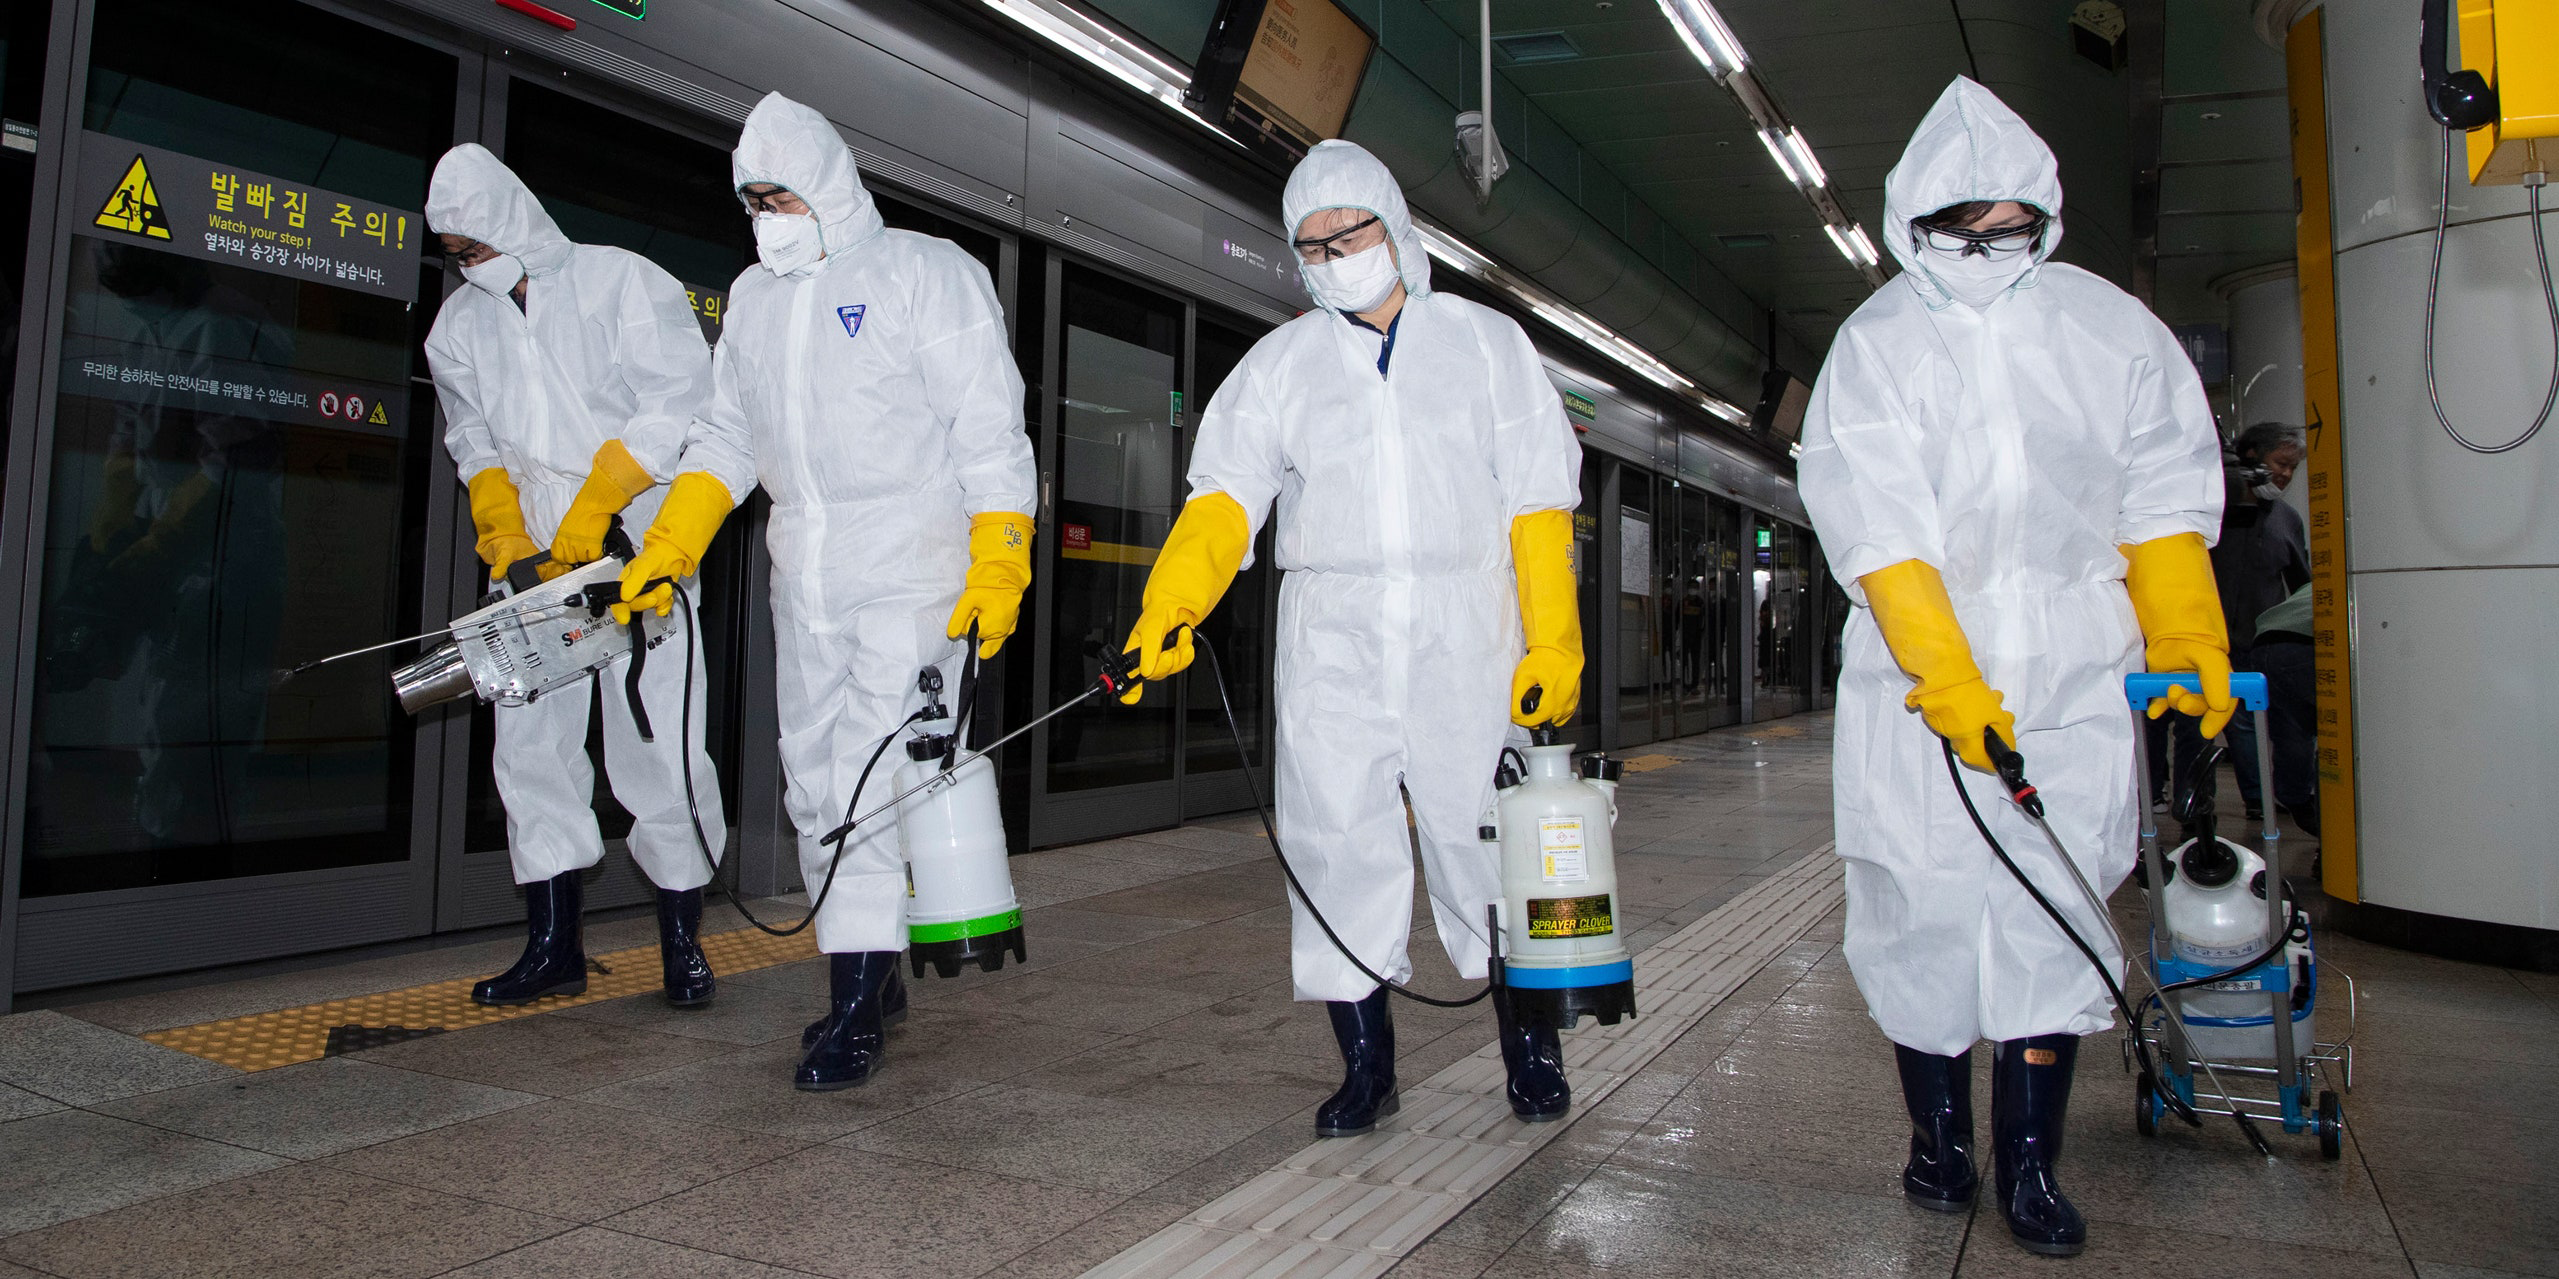Coverall: (1796, 72, 2221, 1032), (665, 87, 1096, 968), (1182, 122, 1588, 1000), (399, 131, 713, 889)
Gloves: (1849, 567, 2030, 777), (1116, 498, 1268, 719), (2120, 534, 2256, 748), (1506, 498, 1604, 734), (613, 493, 759, 629), (544, 429, 659, 579), (942, 498, 1051, 643), (461, 465, 554, 593)
with_mask: (1909, 210, 2044, 312), (1297, 217, 1406, 319), (751, 198, 832, 286)
